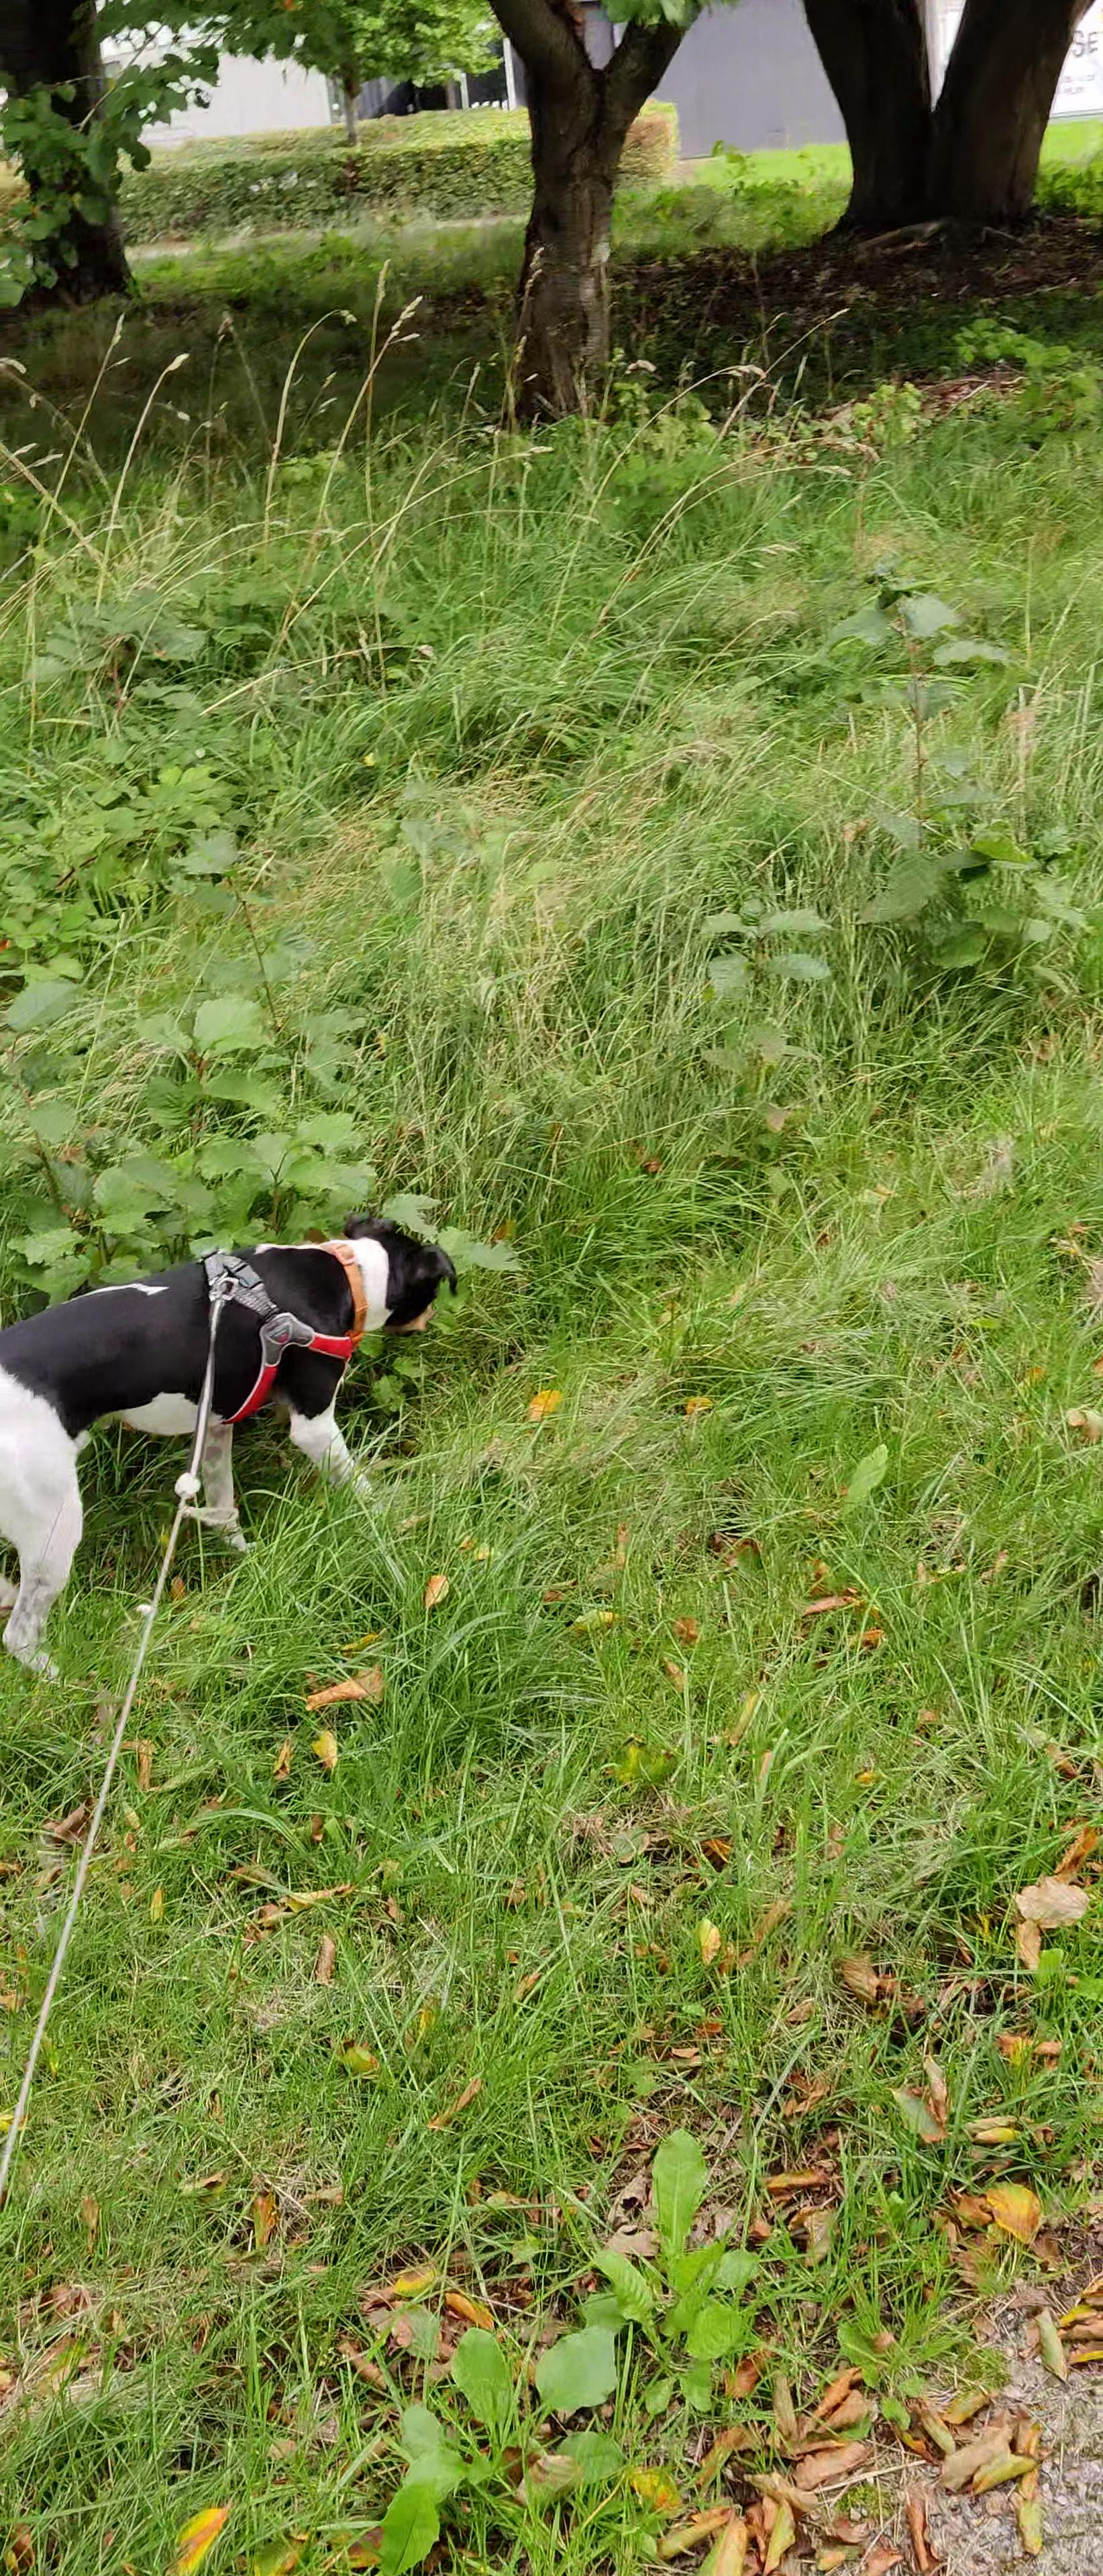Dog: (0, 1207, 462, 1684)
